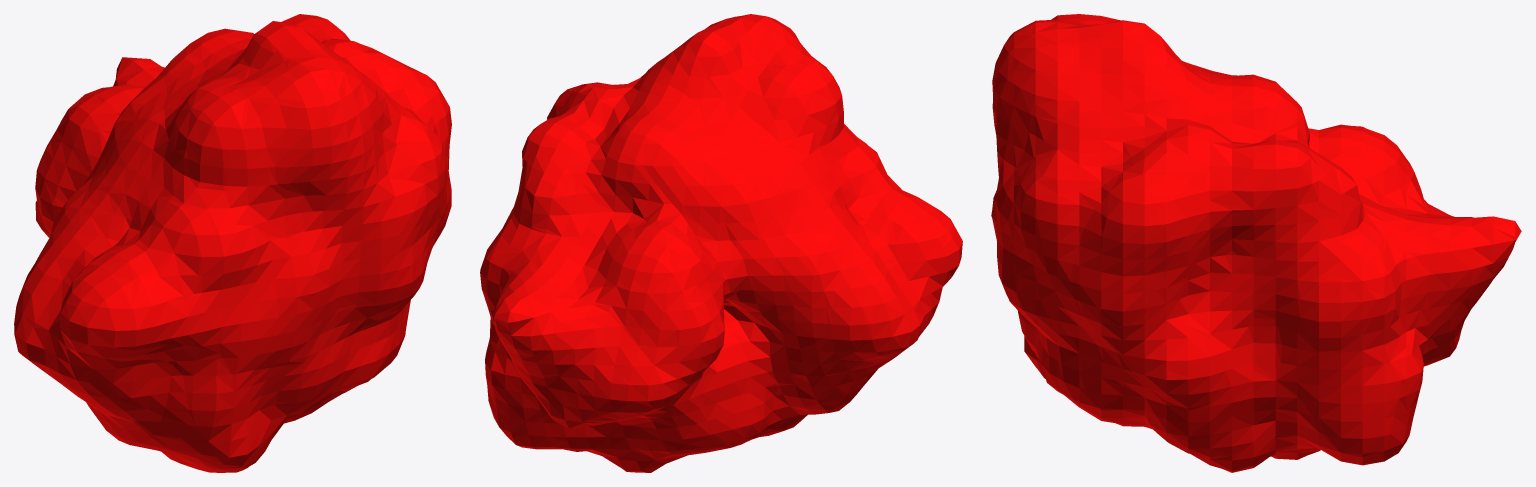
File: glpK_coarse.dae
The picture shows the model from 3 angles, left to right: view 1: azimuth 30°, elevation 25°; view 2: azimuth 150°, elevation 25°; view 3: azimuth 270°, elevation 25°; orthographic projection. The views are drawn at different scales.
Visible parts, largest first — view 1: glpK; view 2: glpK; view 3: glpK.
Boxes of the visible parts, <box> form: glpK: <box>14,14,451,472</box>; glpK: <box>480,14,962,472</box>; glpK: <box>991,14,1521,472</box>.
Size of the model in its own units: 62 by 61.88 by 67.98.
